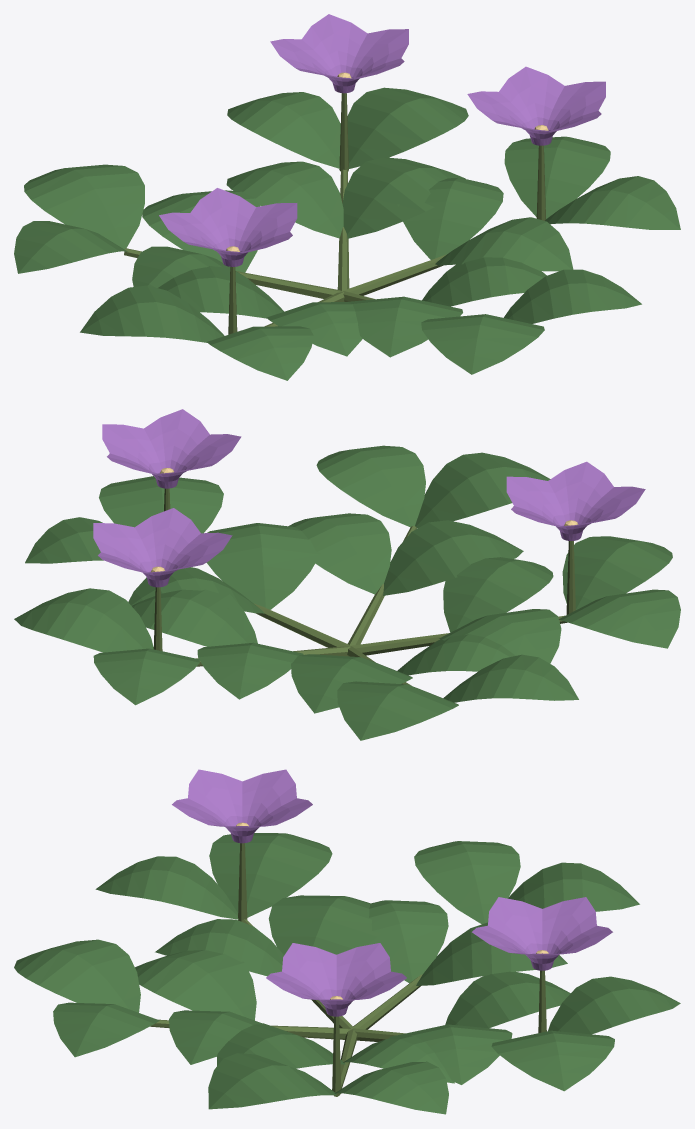
File: beach-morning-glory.glb
3 views of the same model, one above another, from view 1: azimuth 30°, elevation 25°; view 2: azimuth 150°, elevation 25°; view 3: azimuth 270°, elevation 25° (orthographic).
Visible parts, largest first — view 1: beach-morning-glory; view 2: beach-morning-glory; view 3: beach-morning-glory.
Part boxes in pixels (left/top/right/bottom): beach-morning-glory: left=14, top=14, right=680, bottom=380; beach-morning-glory: left=14, top=409, right=680, bottom=740; beach-morning-glory: left=14, top=769, right=680, bottom=1114.
Bounding box in the file's own units: 0.5328 × 0.1462 × 0.5382.
